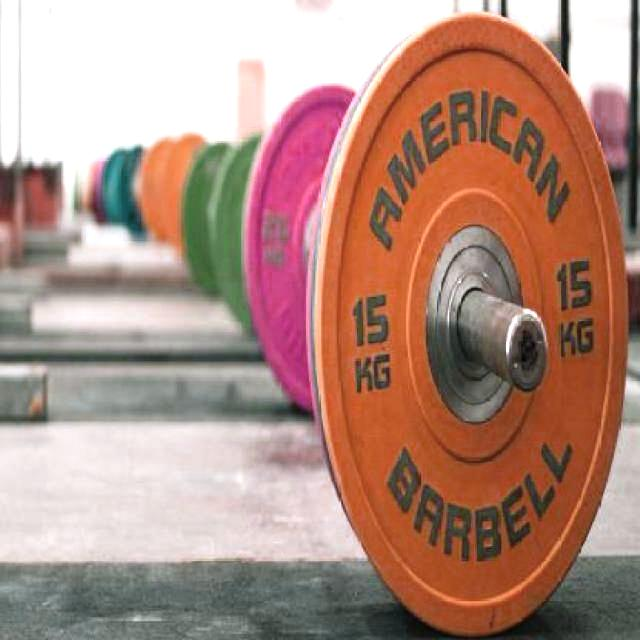barbell: (310, 8, 640, 640)
